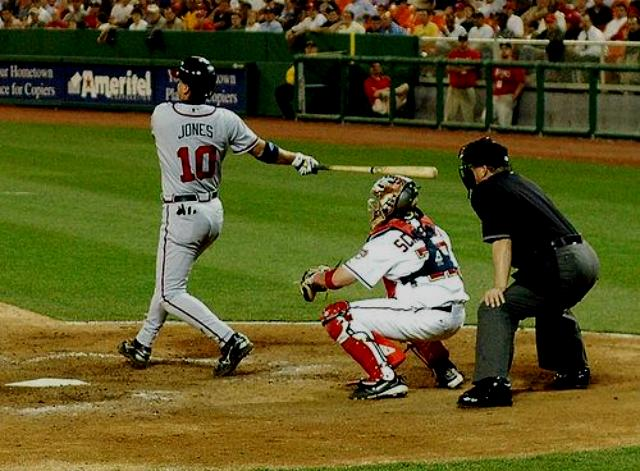bat: (317, 162, 439, 178)
